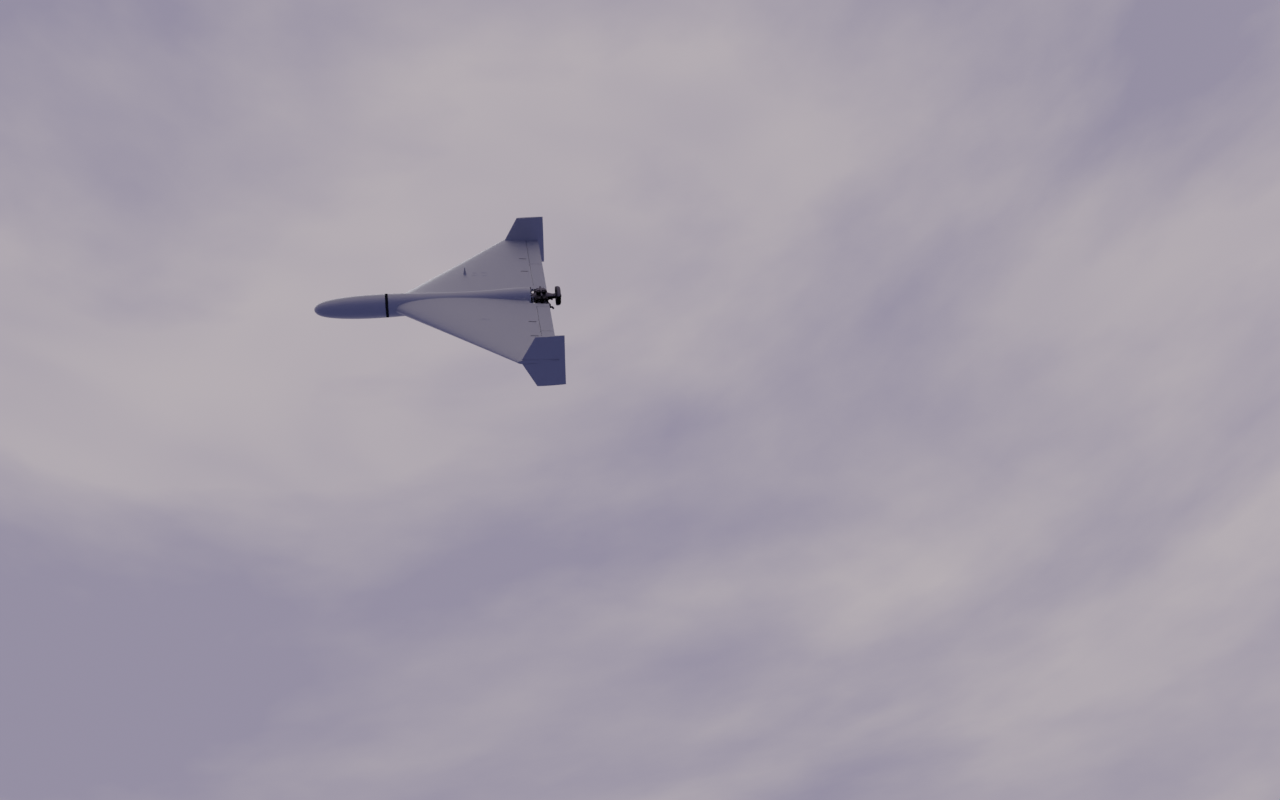shahed: (314, 217, 568, 388)
